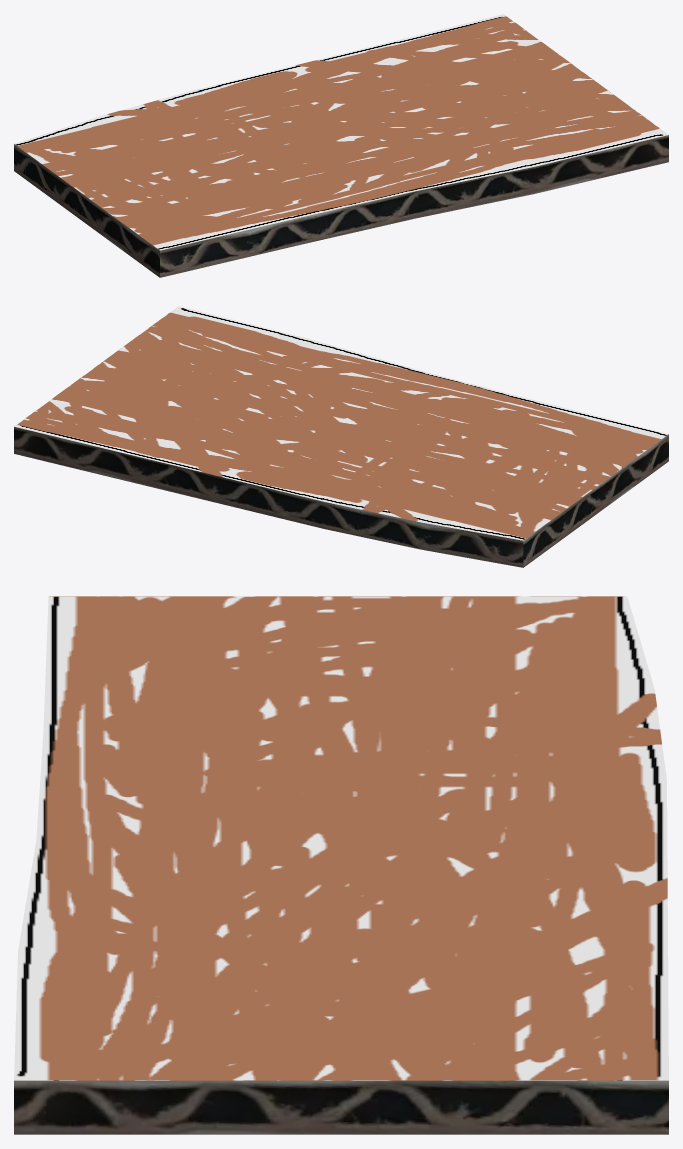
File: bridge.fbx
3 renders of one model, top to bottom at view 1: azimuth 30°, elevation 25°; view 2: azimuth 150°, elevation 25°; view 3: azimuth 270°, elevation 25°, orthographic. The views are drawn at different scales.
Parts seen in each view (by area): view 1: bridge; view 2: bridge; view 3: bridge.
Part boxes in pixels (x1,y1,x2,y2): bridge: (14, 14, 668, 277); bridge: (14, 306, 668, 567); bridge: (14, 596, 668, 1134).
Size of the model in its own units: 3403 by 177 by 1946.
